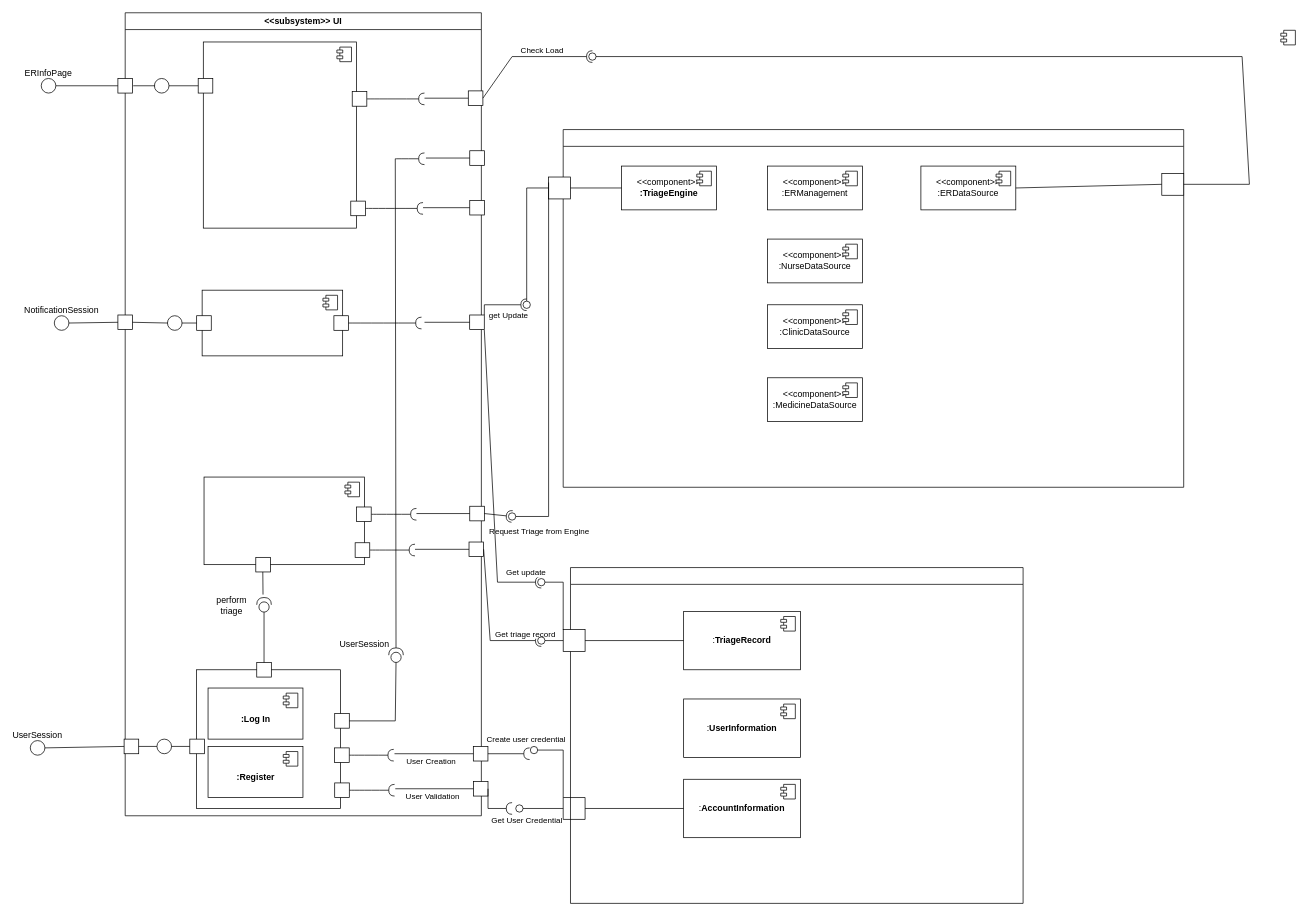
Image size: 1308x916. Some labels were removed from this diagram. Here are the shapes that lost their labels. From the top down, the box of each, then its label:
(203, 41, 357, 228): :ERService
(201, 289, 343, 356): :NotificationServices
(562, 129, 1184, 487): <<subsystem>> Health Service Management
(203, 476, 365, 565): :TriageServices
(196, 669, 341, 808): :Authentication
(570, 567, 1023, 903): <<subsystem>> Patient Managment
